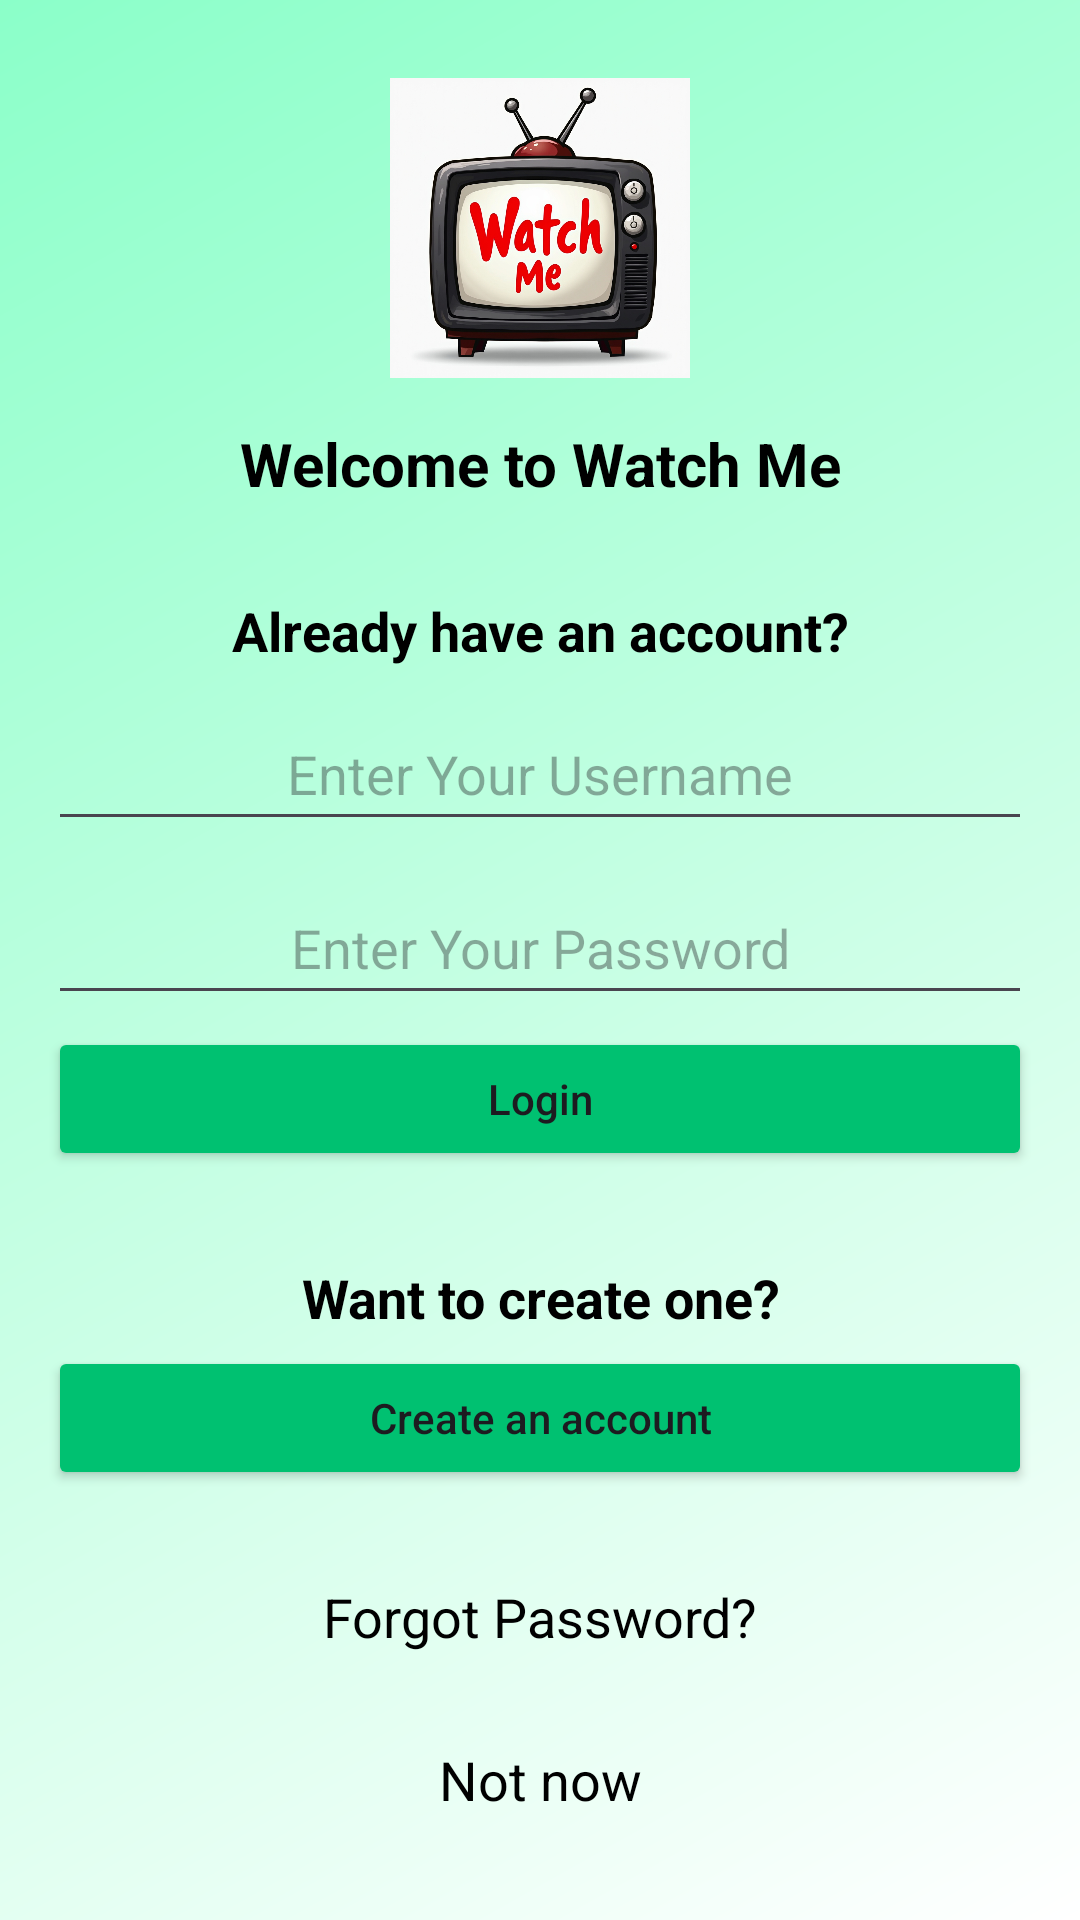

Screen size 1080 × 1920. Icon name, then its center in pixels as point (x, y):
app: point (540, 228)
